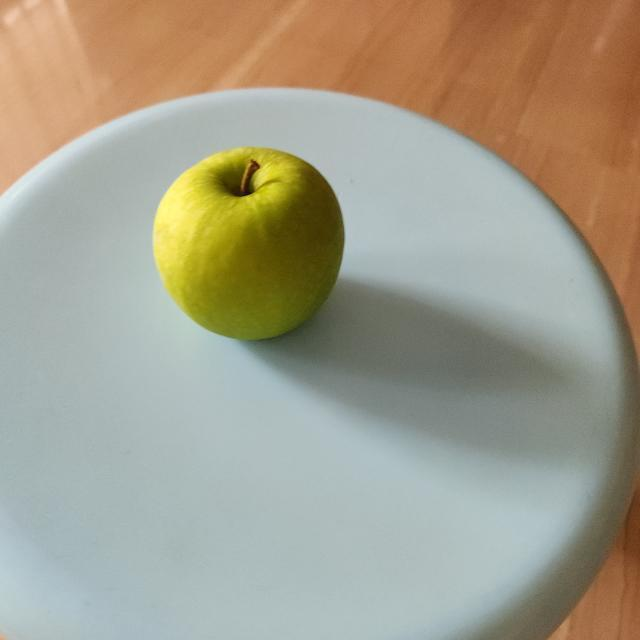apple: (148, 128, 354, 354)
